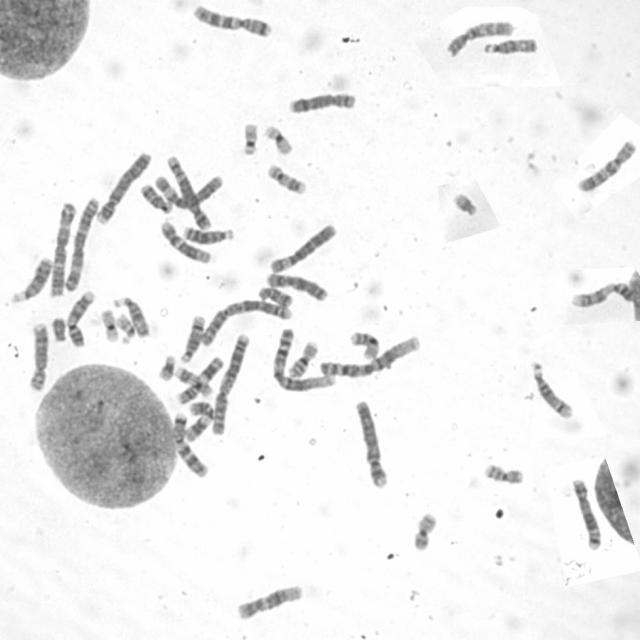A1: (320, 334, 421, 378), (273, 328, 339, 392)
A2: (201, 300, 294, 348), (211, 333, 250, 435)
A3: (66, 196, 100, 292), (49, 201, 76, 299)
B4: (96, 151, 151, 226), (350, 399, 390, 492)
B5: (167, 156, 212, 231), (571, 478, 602, 551)
C10: (575, 140, 638, 193), (446, 20, 514, 58)
C11: (176, 356, 224, 406), (182, 402, 214, 442)
C12: (236, 583, 308, 621), (159, 220, 212, 264)
C6: (270, 223, 337, 274), (155, 175, 224, 210)
C7: (191, 2, 273, 40), (171, 412, 210, 481)
C8: (289, 92, 358, 115), (27, 322, 48, 392)
C9: (65, 289, 95, 347), (568, 282, 633, 307)
D13: (9, 255, 54, 304), (183, 227, 236, 246)
D14: (530, 360, 574, 420), (180, 314, 207, 364)
D15: (113, 296, 151, 339), (481, 37, 538, 57)
E16: (288, 340, 318, 380), (350, 330, 380, 361)
E17: (267, 164, 309, 197), (176, 366, 212, 399)
E18: (140, 184, 174, 215), (259, 286, 294, 308)
F19: (261, 124, 294, 155), (99, 310, 120, 342)
F20: (412, 512, 438, 552), (484, 461, 525, 486)
G21: (453, 192, 480, 218), (157, 355, 176, 382)
G22: (115, 312, 136, 344), (242, 122, 258, 156)
X: (265, 273, 329, 302), (52, 316, 67, 343)
